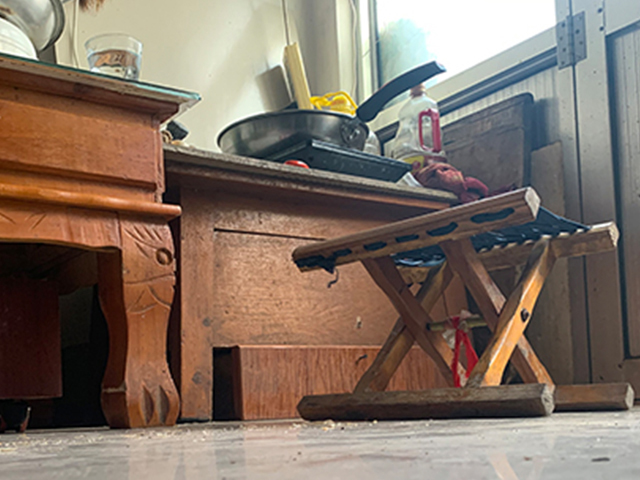stool: (291, 186, 635, 423)
table: (1, 55, 203, 427)
